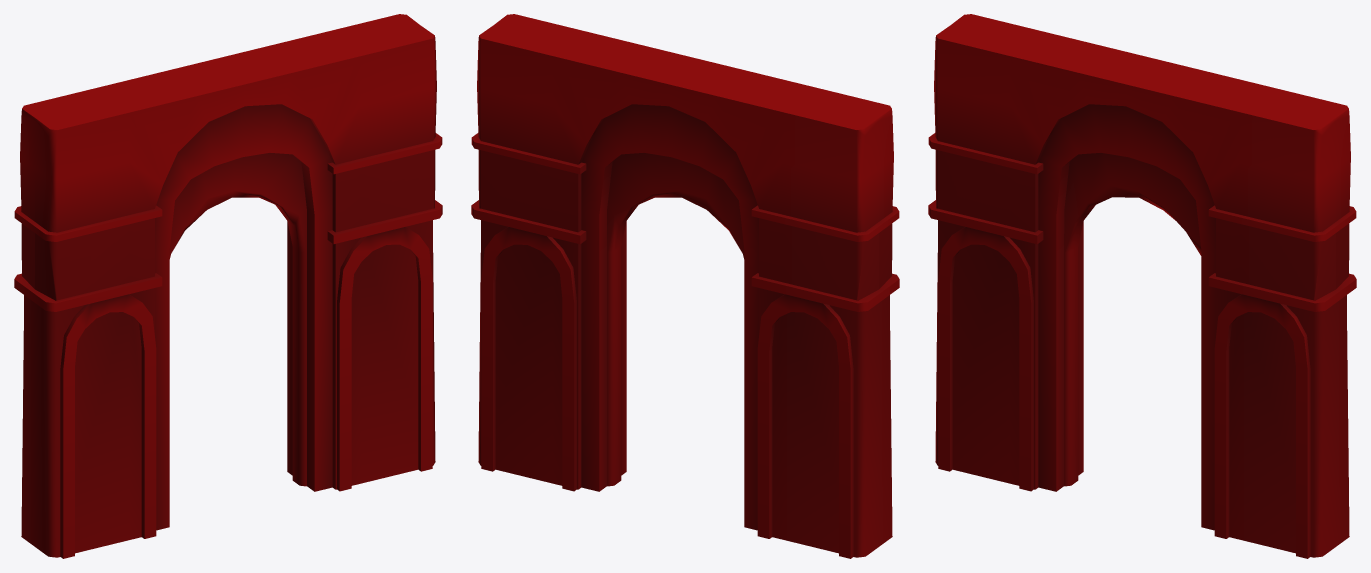
The model's file is buildings-ruins-cathedralruins_v2.fbx.
The picture shows the model from 3 angles, left to right: view 1: azimuth 30°, elevation 25°; view 2: azimuth 150°, elevation 25°; view 3: azimuth 330°, elevation 25°; orthographic projection.
Visible parts, largest first — view 1: CathedralRuins_v2; view 2: CathedralRuins_v2; view 3: CathedralRuins_v2.
Part boxes in pixels (x1,y1,x2,y2): CathedralRuins_v2: [14, 14, 442, 558]; CathedralRuins_v2: [471, 14, 899, 558]; CathedralRuins_v2: [928, 14, 1356, 558].
Size of the model in its own units: 11.13 by 11.46 by 1.9.
